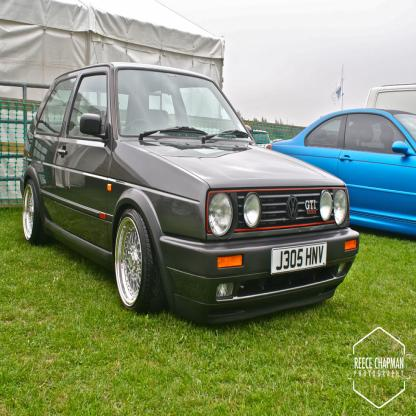Car: (22, 64, 361, 312), (269, 111, 416, 235)
